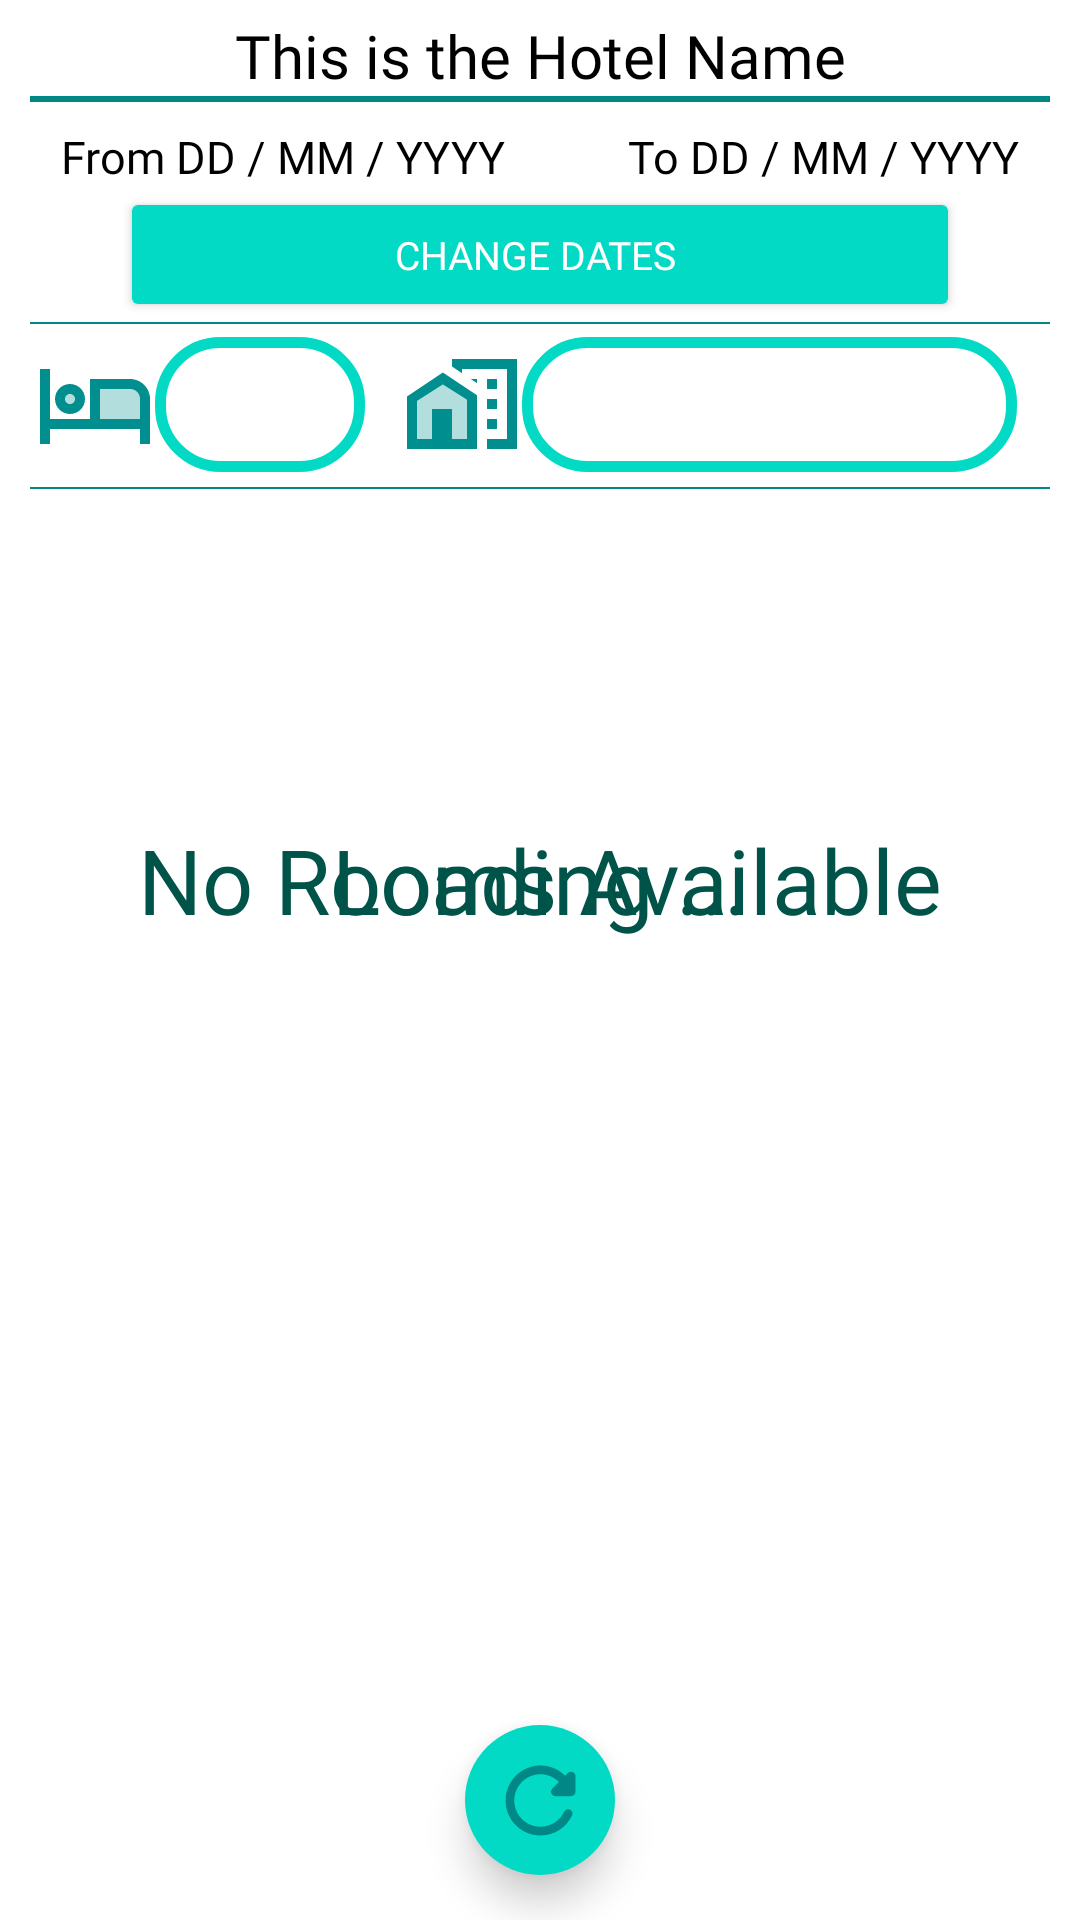

Named icons in this screenshot (1080*1920) and their bounding boxes, (x1, y1, x2, y2):
refresh: (465, 1725, 615, 1875)
